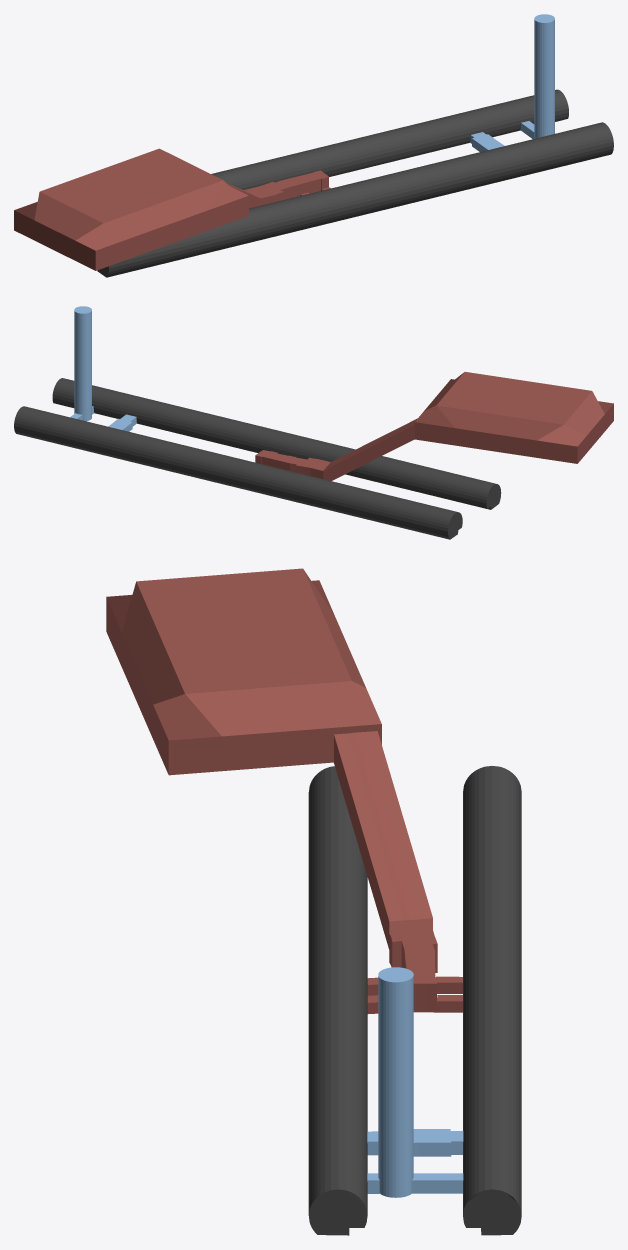
3 views of the same model, one above another, from view 1: azimuth 30°, elevation 25°; view 2: azimuth 150°, elevation 25°; view 3: azimuth 270°, elevation 25° (orthographic). The views are drawn at different scales.
Parts seen in each view (by area): view 1: TicketHall, PLT1, PLT2, 14, Concourse, 36; view 2: PLT2, TicketHall, PLT1, 14, ESC, Concourse; view 3: TicketHall, PLT2, PLT1, ESC, 14, Concourse, 36.
Boxes of the visible parts, <box> form: TicketHall: <box>14,148,248,270</box>; PLT1: <box>97,122,613,277</box>; PLT2: <box>211,89,568,189</box>; 14: <box>520,14,554,138</box>; Concourse: <box>244,170,328,205</box>; 36: <box>470,132,504,151</box>; PLT2: <box>14,406,462,539</box>; TicketHall: <box>414,372,613,463</box>; PLT1: <box>52,378,501,509</box>; 14: <box>70,306,94,421</box>; ESC: <box>323,418,417,480</box>; Concourse: <box>255,450,330,478</box>; TicketHall: <box>106,568,381,775</box>; PLT2: <box>463,766,521,1235</box>; PLT1: <box>308,766,367,1235</box>; ESC: <box>334,731,432,949</box>; 14: <box>367,967,463,1197</box>; Concourse: <box>389,918,437,1012</box>; 36: <box>367,1129,463,1156</box>.
Bounding box in the file's own units: 186 × 38.67 × 65.05.
